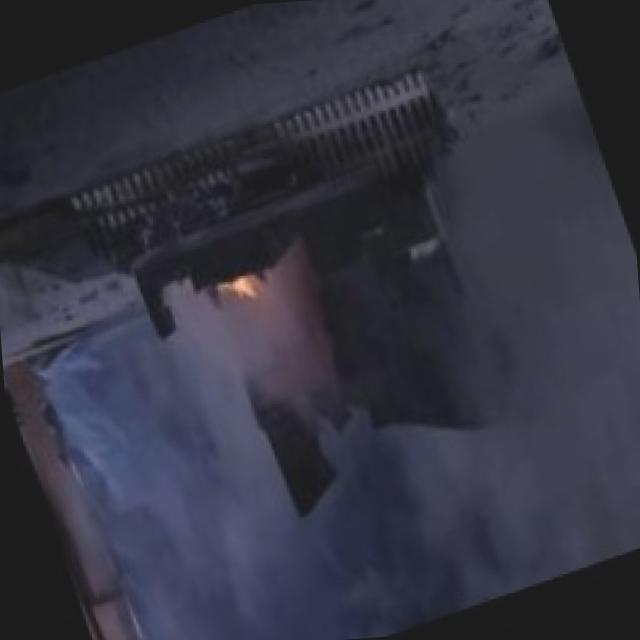fire: (186, 228, 303, 334)
smoke: (50, 199, 640, 640)
